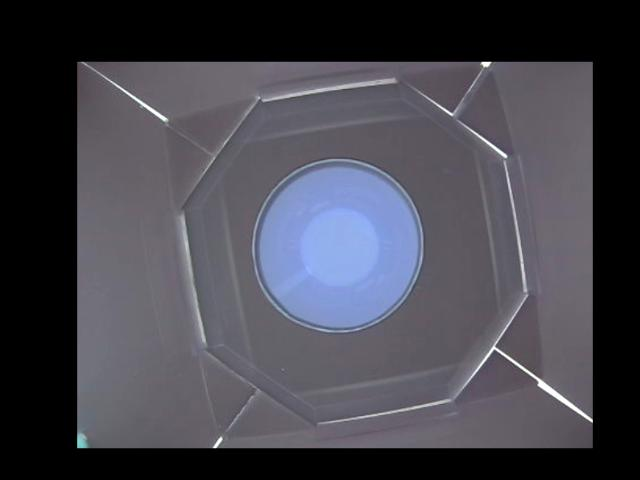Cup: (253, 157, 426, 333)
